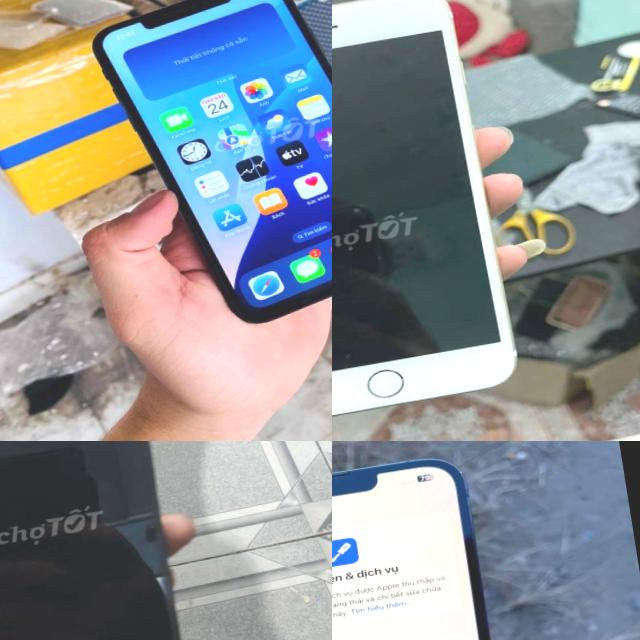gen_12_13: (332, 443, 529, 640)
gen_14: (0, 441, 209, 640)
gen_6: (332, 0, 538, 438)
gen_x_xs: (81, 0, 332, 343)
